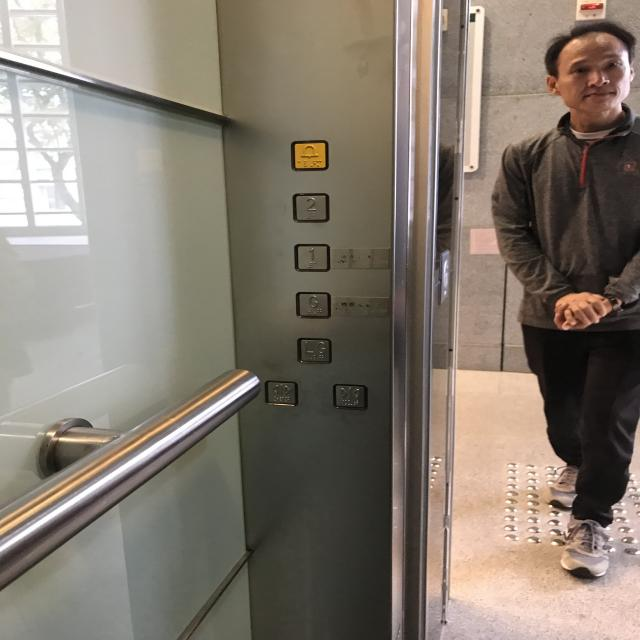1: (293, 242, 331, 272)
2: (291, 192, 330, 223)
G: (294, 291, 332, 319)
LG: (296, 336, 332, 366)
alarm: (290, 139, 329, 172)
close: (332, 382, 368, 411)
open: (264, 379, 300, 407)
